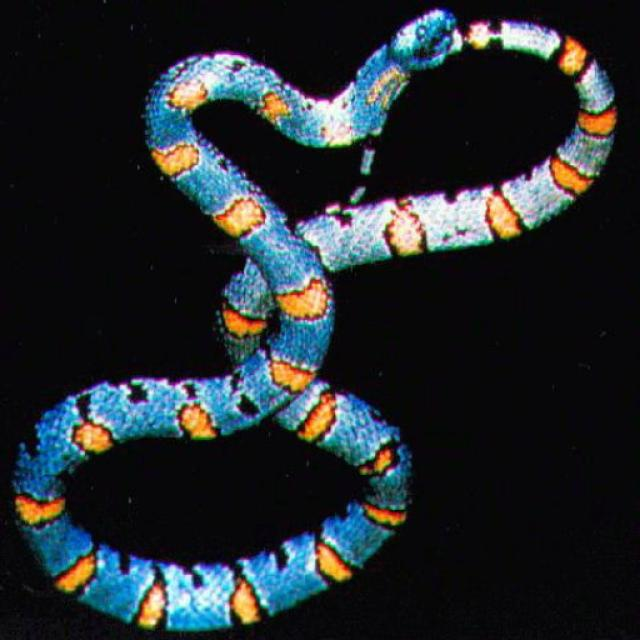snake: (14, 1, 640, 632)
